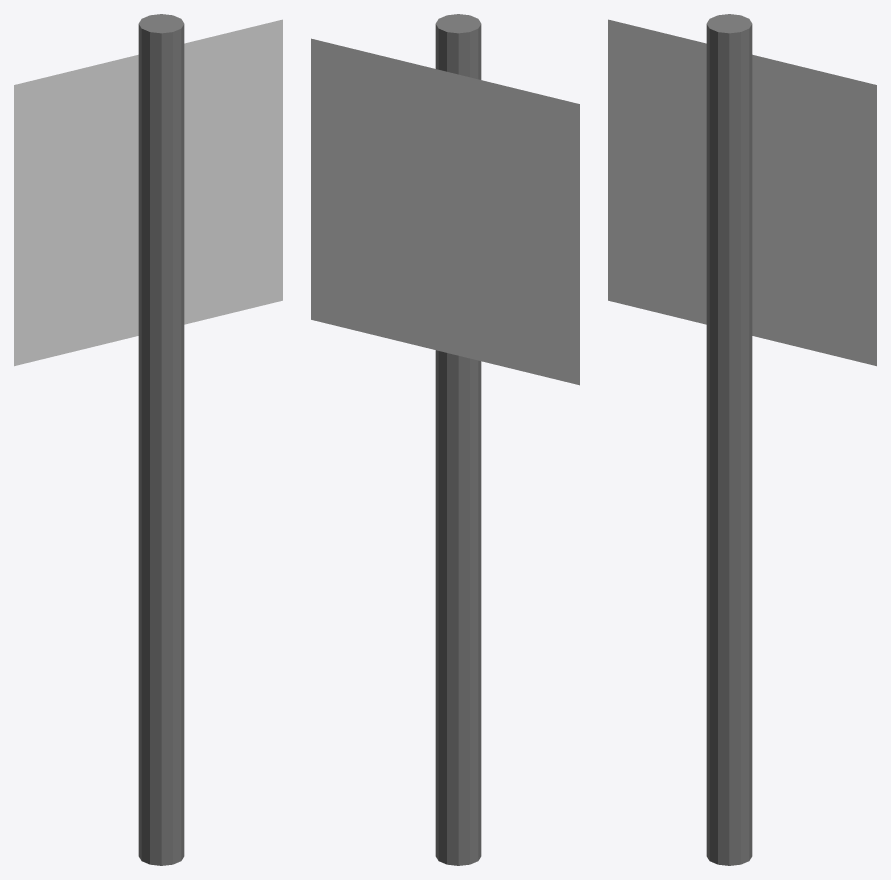
File: route_69.fbx
3 views of the same model, side by side, from view 1: azimuth 30°, elevation 25°; view 2: azimuth 150°, elevation 25°; view 3: azimuth 330°, elevation 25° (orthographic).
Visible parts, largest first — view 1: route69.002; view 2: route69.002; view 3: route69.002.
Part boxes in pixels (left/top/right/bottom): route69.002: left=14, top=14, right=282, bottom=865; route69.002: left=311, top=14, right=579, bottom=865; route69.002: left=608, top=14, right=876, bottom=865.
Size of the model in its own units: 106 by 313 by 16.71.
